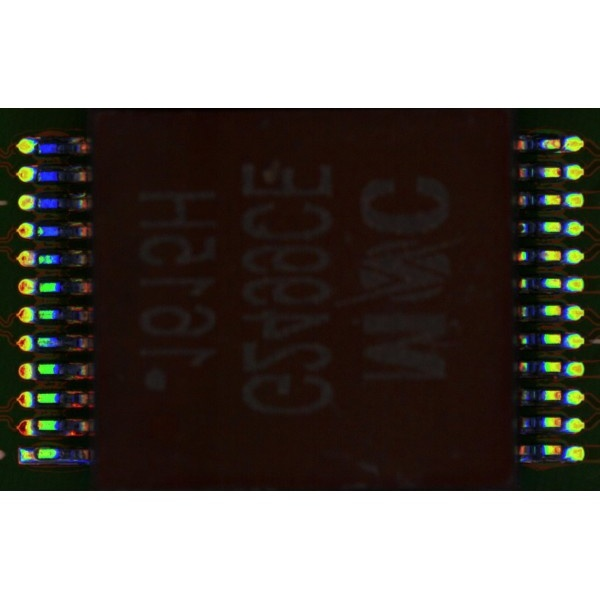Bad_podu: (29, 450, 43, 460)
